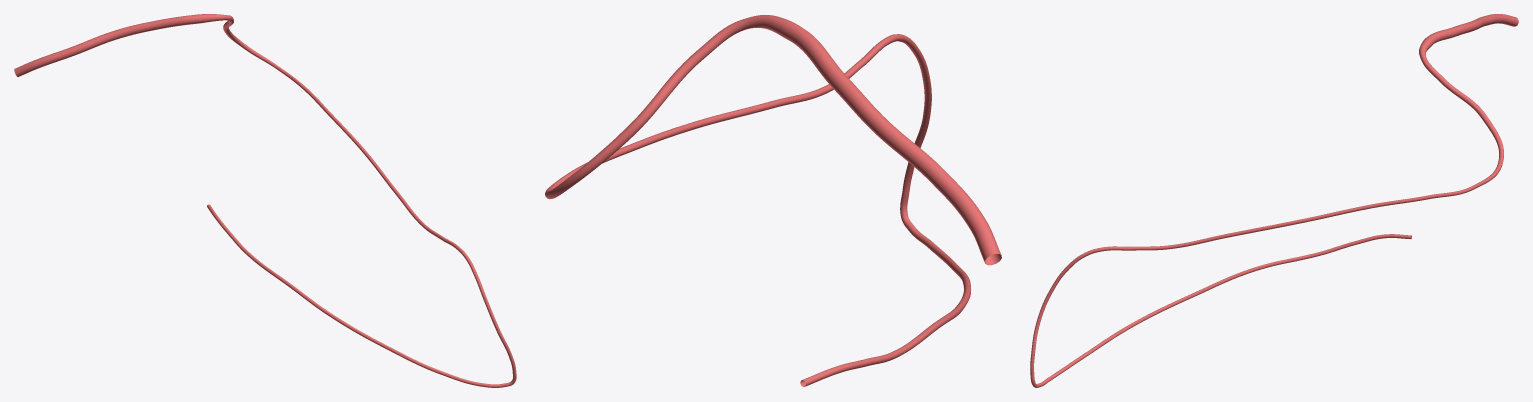
File: Artery_of_pterygoid_canal.r_BezierCurve.103.glb
The picture shows the model from 3 angles, left to right: view 1: azimuth 30°, elevation 25°; view 2: azimuth 150°, elevation 25°; view 3: azimuth 270°, elevation 25°; orthographic projection. The views are drawn at different scales.
Parts seen in each view (by area): view 1: Artery_of_pterygoid_canal.r_BezierCurve.103; view 2: Artery_of_pterygoid_canal.r_BezierCurve.103; view 3: Artery_of_pterygoid_canal.r_BezierCurve.103.
Part boxes in pixels (left/top/right/bottom): Artery_of_pterygoid_canal.r_BezierCurve.103: left=14, top=14, right=516, bottom=387; Artery_of_pterygoid_canal.r_BezierCurve.103: left=545, top=15, right=1001, bottom=386; Artery_of_pterygoid_canal.r_BezierCurve.103: left=1030, top=14, right=1518, bottom=387.
Size of the model in its own units: 0.0346 by 0.0322 by 0.0499.
